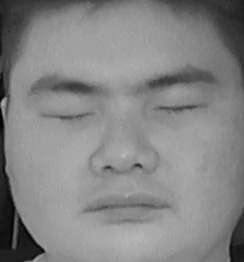blink: (154, 90, 209, 127), (44, 100, 98, 136)
mouth: (81, 185, 171, 233)
